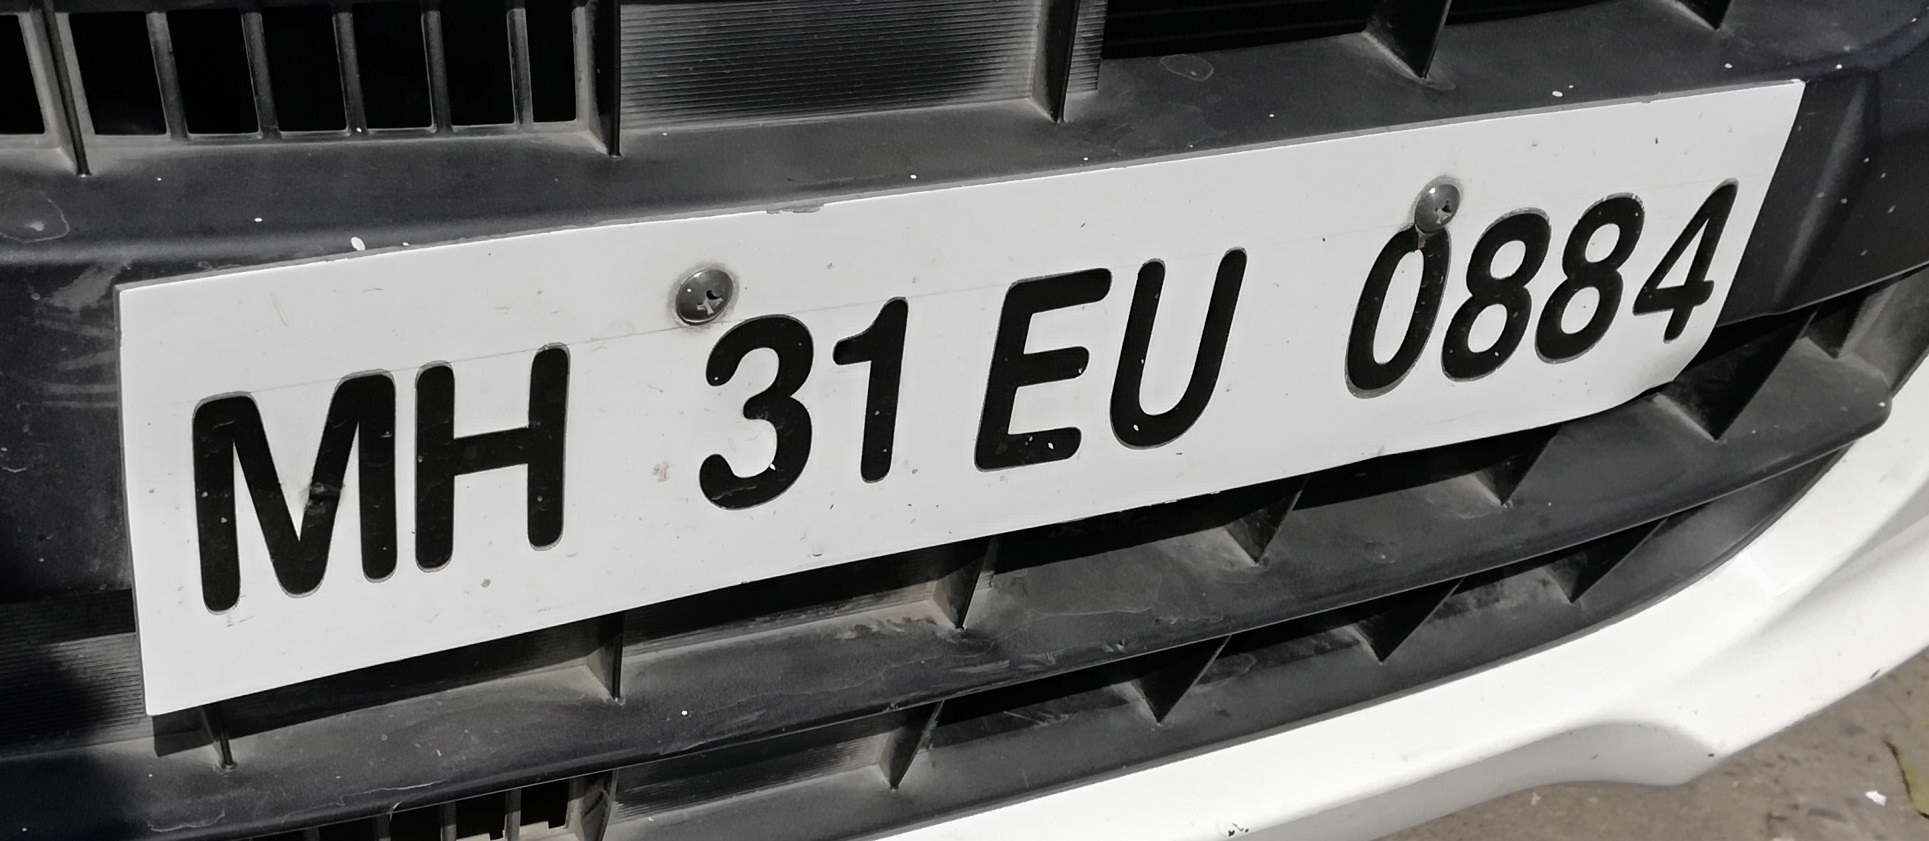numberplate: (110, 66, 1796, 717)
